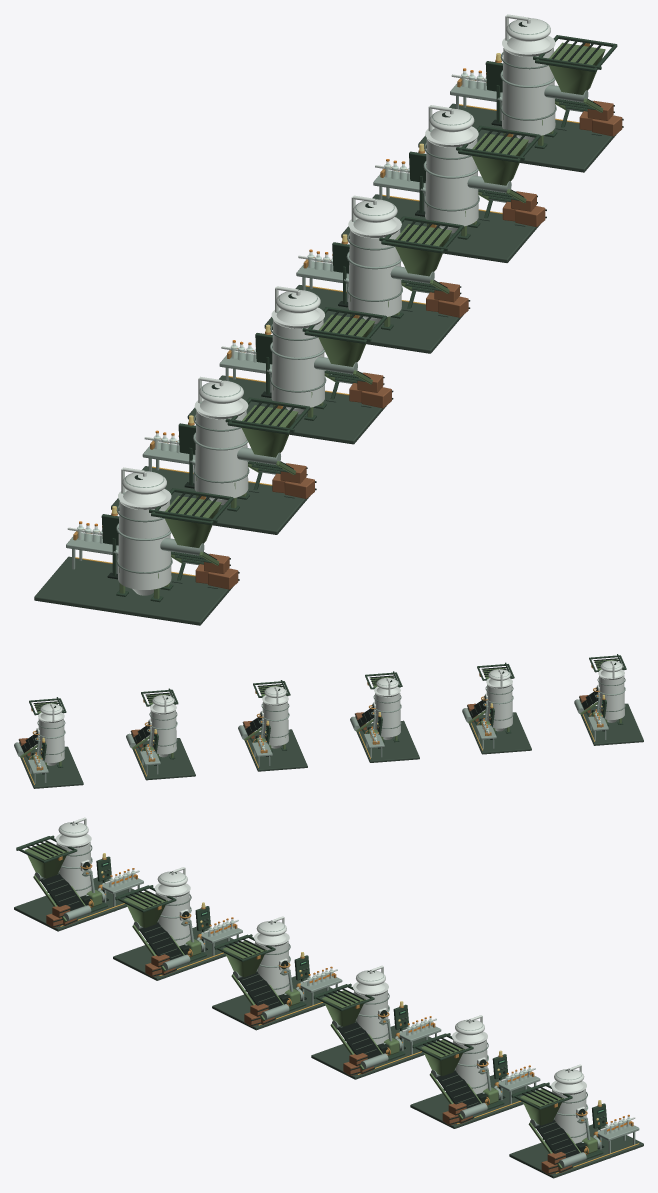
The model's file is audit-hf-processing-line-run-side.glb.
The picture shows the model from 3 angles, top to bottom: view 1: azimuth 30°, elevation 25°; view 2: azimuth 150°, elevation 25°; view 3: azimuth 270°, elevation 25°; orthographic projection. The views are drawn at different scales.
Parts seen in each view (by area): view 1: processingFoundation (×6), tankBody (×6), hopperBody (×6); view 2: processingFoundation (×6), tankBody (×6); view 3: processingFoundation (×6), tankBody (×6), conveyorBelt (×6), hopperBody (×6).
Part boxes in pixels (x1,y1,x2,y2): processingFoundation (×6): (34,103,617,625); tankBody (×6): (118,47,555,589); hopperBody (×6): (165,42,605,547); processingFoundation (×6): (20,703,643,788); tankBody (×6): (38,675,624,762); processingFoundation (×6): (14,877,643,1178); tankBody (×6): (56,842,586,1143); conveyorBelt (×6): (40,873,579,1157); hopperBody (×6): (25,842,563,1125).
Bounding box in the file's own units: 39.55 × 5.27 × 34.88.
